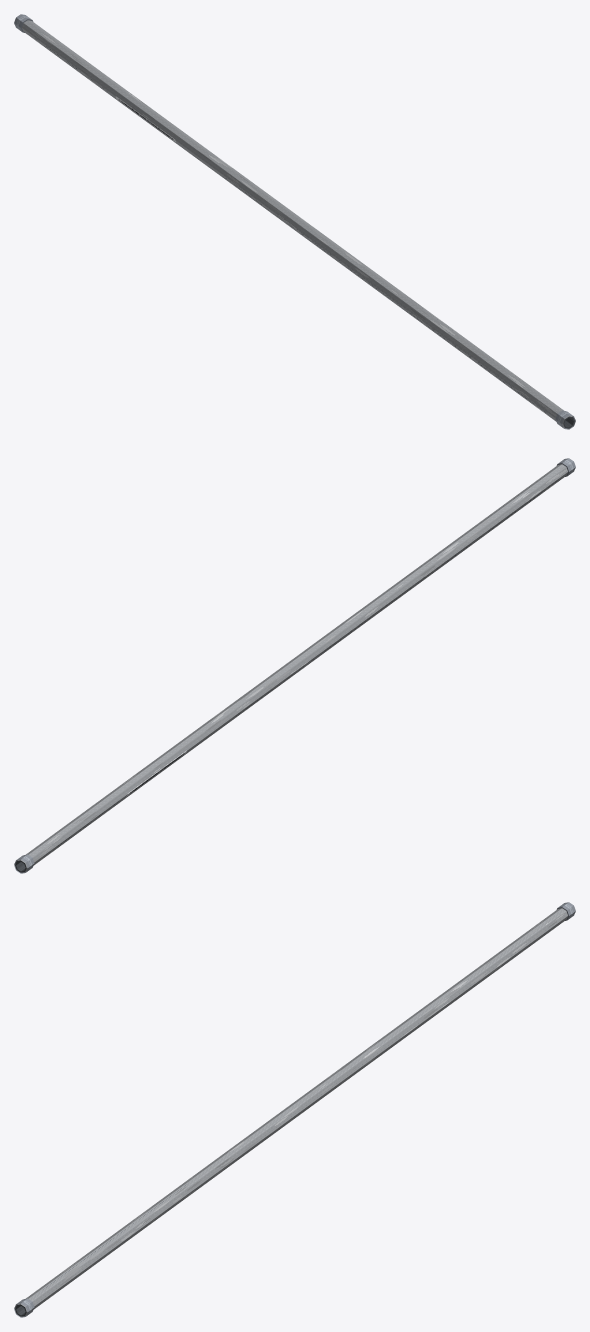
Rendered from SEC_Conduit_Straight_2m.fbx.
The picture shows the model from 3 angles, top to bottom: view 1: azimuth 30°, elevation 25°; view 2: azimuth 150°, elevation 25°; view 3: azimuth 330°, elevation 25°; orthographic projection.
Visible parts, largest first — view 1: Pipe_Mesh; view 2: Pipe_Mesh; view 3: Pipe_Mesh.
Part boxes in pixels (left/top/right/bottom): Pipe_Mesh: left=22, top=20, right=574, bottom=428; Pipe_Mesh: left=15, top=464, right=567, bottom=872; Pipe_Mesh: left=15, top=908, right=567, bottom=1316.
Size of the model in its own units: 2.9 by 2.9 by 200.
1 material, 1 textured.
